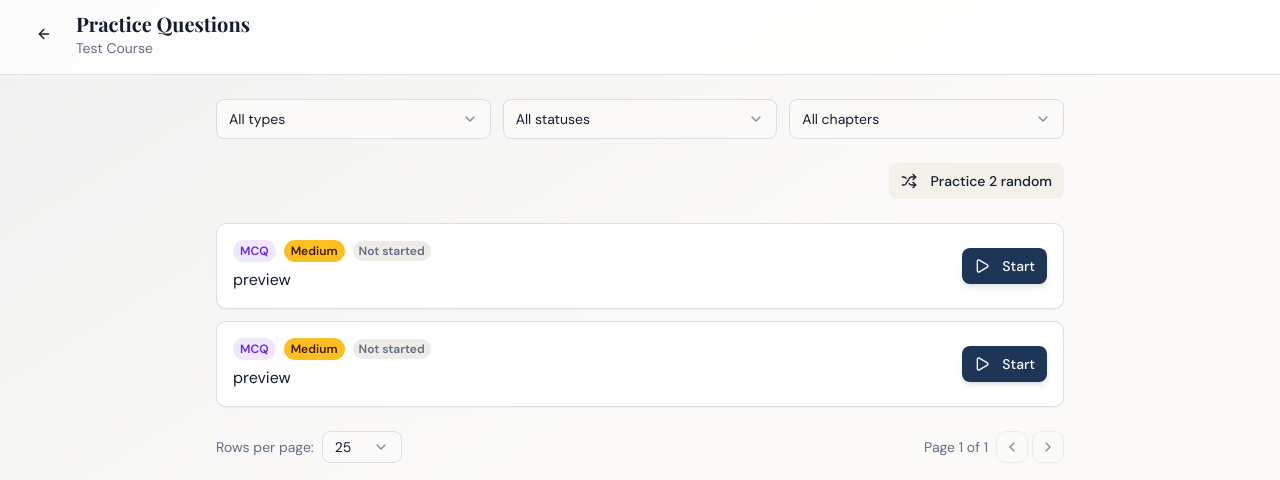
Test case: UnifiedPracticeQuestionsList › renders the chapter filter with course chapters sorted by label (#774)
Click the dropdown named "Filter by chapter".
click(841, 119)  # box [789,99,1064,139]
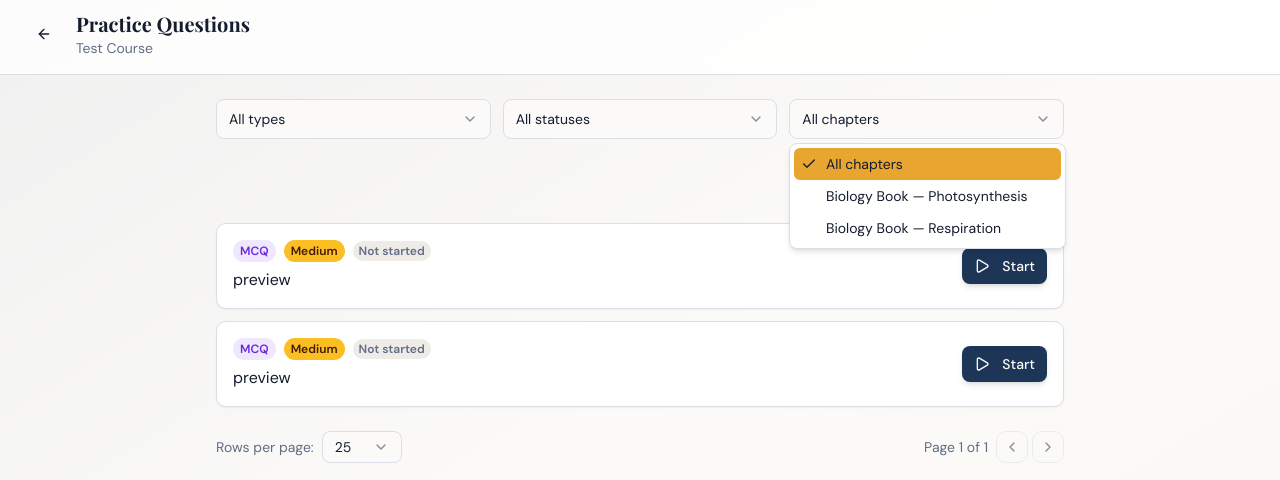
Expected: the options read "All chapters", "Biology Book — Photosynthesis", "Biology Book — Respiration", in this order, [794,148,1061,180]; [826,187,1028,205]; [826,219,1001,237]
